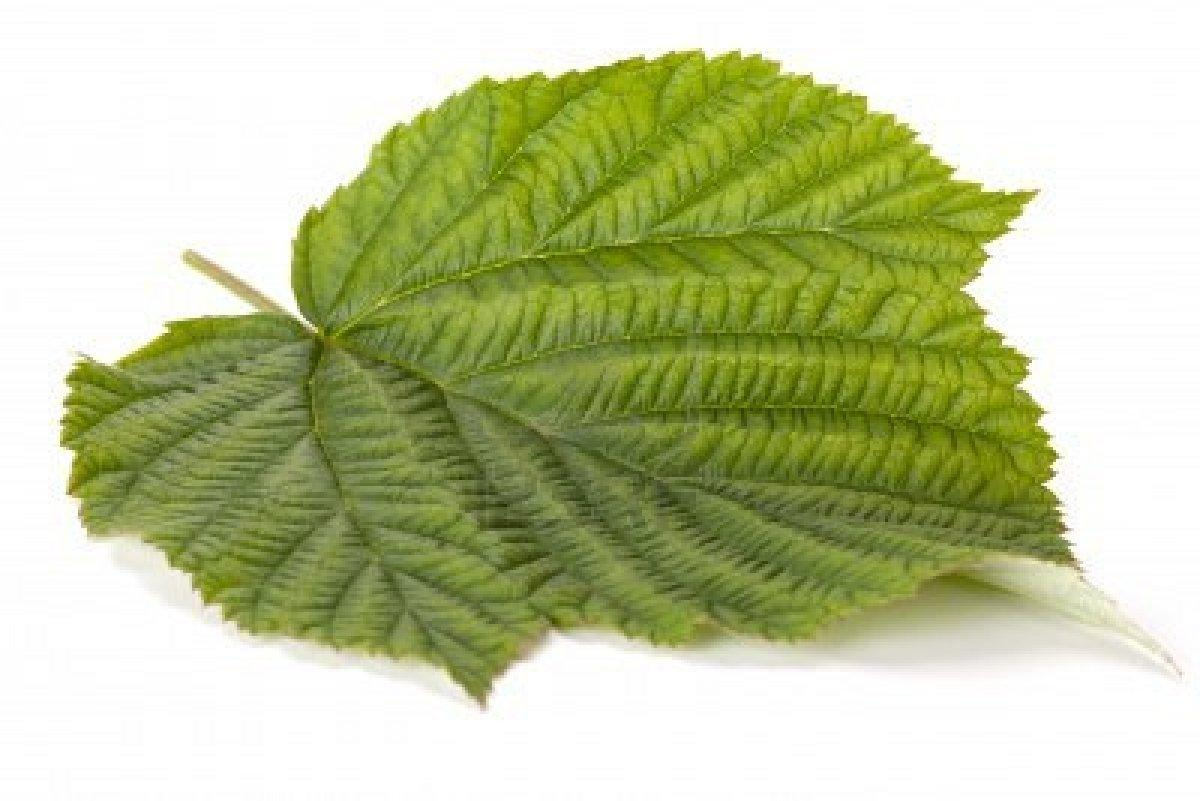Raspberry leaf: (55, 42, 1094, 696)
